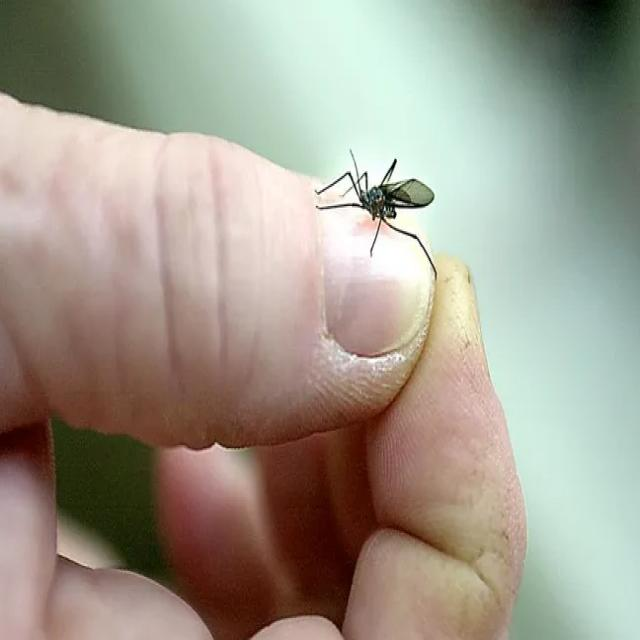Mosquito: (318, 128, 447, 312)
